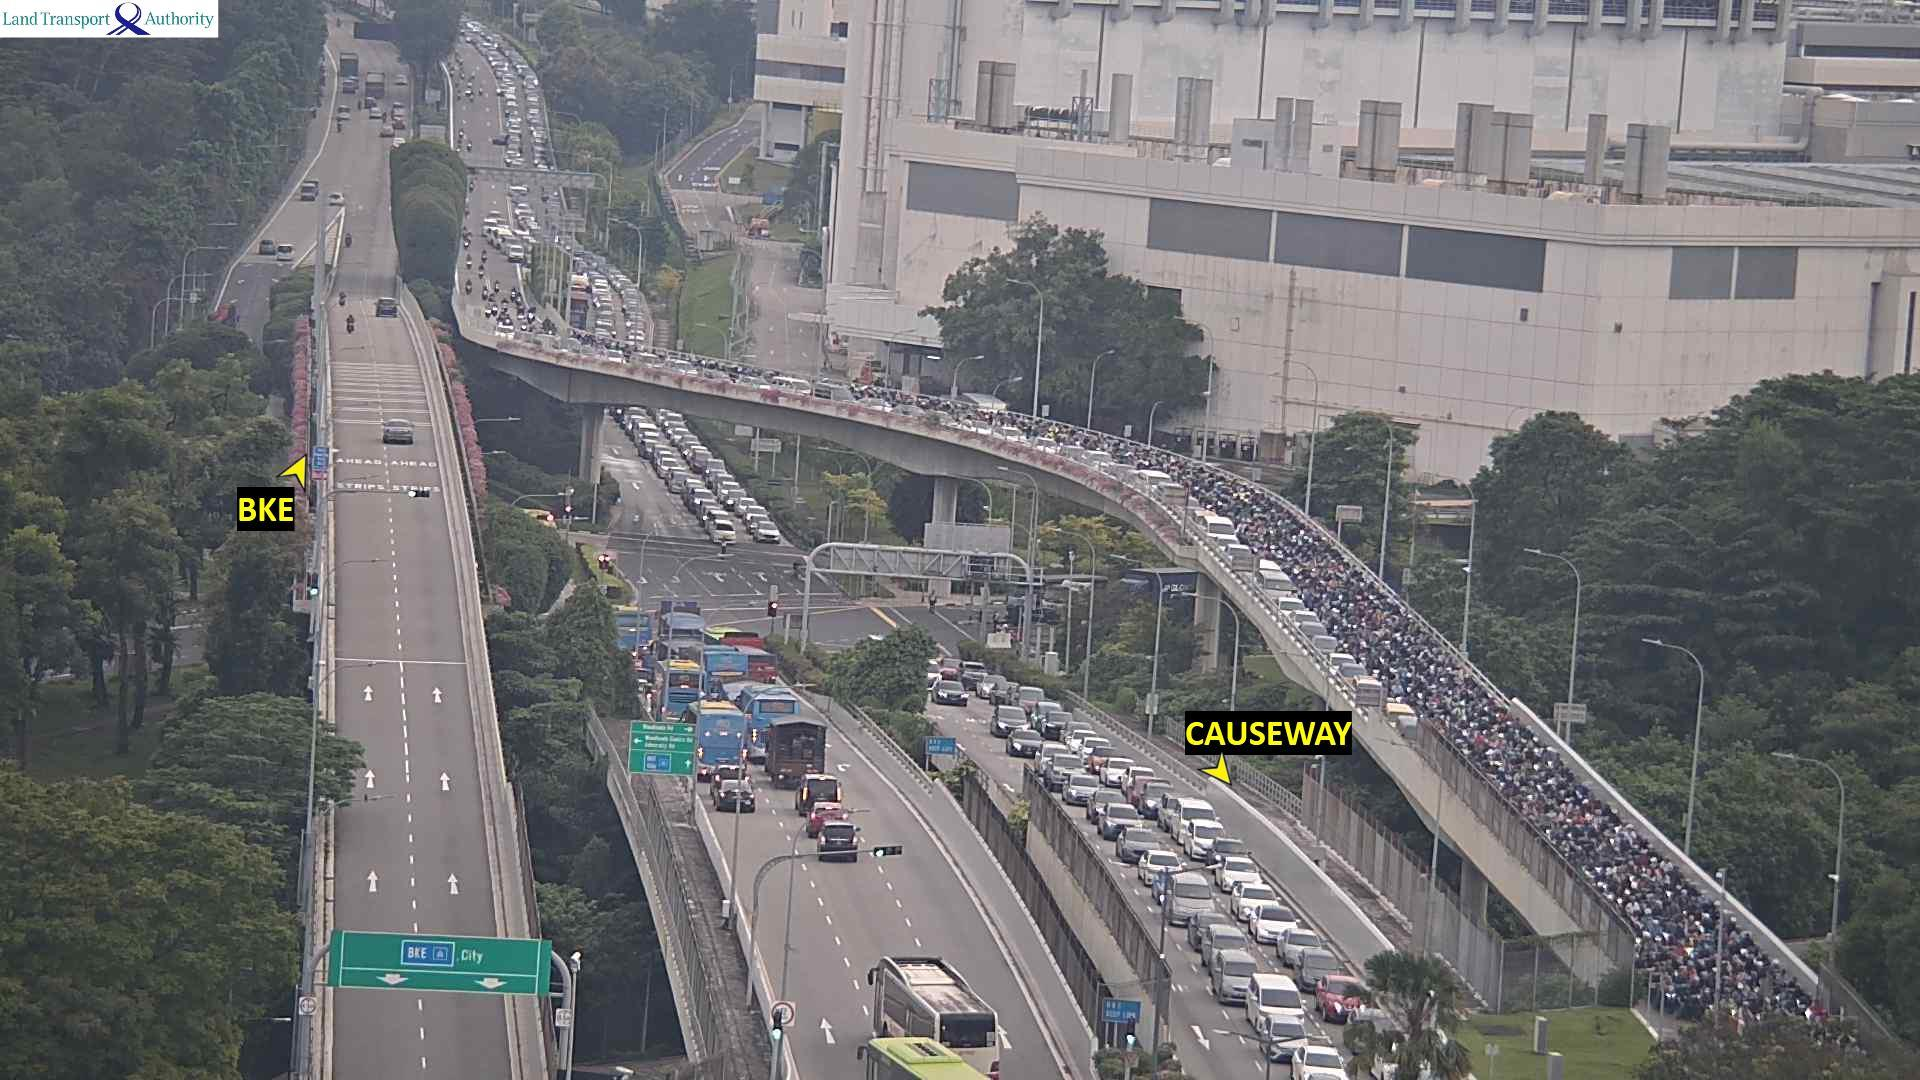vehicle-causeway-johor: (1247, 1013, 1317, 1046), (1246, 910, 1308, 943), (1156, 802, 1221, 831), (1317, 978, 1360, 1022), (1137, 849, 1189, 881), (1291, 1048, 1344, 1080), (1160, 877, 1217, 906), (1117, 832, 1168, 864), (1220, 955, 1254, 1001), (1163, 898, 1218, 926), (1199, 930, 1251, 959), (1096, 811, 1147, 840), (1250, 907, 1294, 940), (1247, 988, 1305, 1011), (1232, 887, 1274, 916), (1059, 779, 1108, 804), (1215, 861, 1257, 889), (1299, 952, 1335, 984), (1280, 934, 1317, 964), (1187, 824, 1222, 855), (1050, 756, 1083, 787), (1207, 841, 1246, 865), (935, 680, 969, 707), (993, 707, 1026, 733), (1142, 789, 1174, 812), (1009, 731, 1040, 753), (709, 521, 736, 546), (1102, 760, 1131, 782), (684, 483, 708, 508), (690, 450, 716, 472), (1044, 712, 1072, 733), (1122, 770, 1153, 789), (1033, 704, 1060, 724), (1089, 748, 1118, 766), (1201, 518, 1230, 537), (754, 522, 779, 543), (1060, 724, 1091, 741), (1266, 572, 1290, 593), (990, 684, 1017, 703), (1015, 687, 1043, 704), (1081, 738, 1109, 756), (700, 501, 723, 522), (978, 675, 1001, 695), (1387, 704, 1412, 721), (708, 512, 729, 531), (1279, 599, 1304, 615), (691, 492, 709, 513), (669, 423, 690, 442), (757, 524, 779, 541), (746, 508, 769, 525), (1071, 732, 1095, 748), (704, 460, 724, 479), (1341, 666, 1364, 682), (684, 442, 702, 462), (1331, 654, 1352, 670), (655, 452, 678, 467), (673, 473, 690, 492), (645, 442, 665, 458), (676, 431, 696, 447), (770, 381, 810, 389), (1224, 543, 1245, 558), (637, 425, 654, 442), (665, 361, 694, 371), (737, 376, 766, 385), (1316, 637, 1336, 650), (508, 245, 524, 261), (1291, 612, 1313, 622), (661, 460, 675, 476), (629, 356, 657, 364), (1308, 625, 1325, 637), (605, 352, 626, 359), (495, 280, 502, 293), (526, 310, 534, 323), (464, 281, 472, 293), (543, 319, 551, 330), (583, 335, 591, 345), (481, 286, 488, 298), (467, 255, 472, 269), (510, 286, 516, 299), (570, 330, 576, 340), (483, 249, 488, 261), (518, 307, 524, 319), (491, 305, 497, 314), (516, 294, 521, 305), (479, 265, 483, 278), (489, 295, 495, 303), (502, 301, 508, 309), (485, 309, 491, 316)
vehicle-causeway-singapore: (872, 956, 997, 1046), (754, 715, 827, 773), (684, 705, 762, 754), (699, 647, 762, 684), (732, 688, 800, 721), (808, 820, 862, 855), (796, 775, 843, 802), (713, 787, 761, 812), (384, 421, 419, 443), (376, 298, 397, 316), (347, 314, 355, 338), (339, 291, 347, 307)
